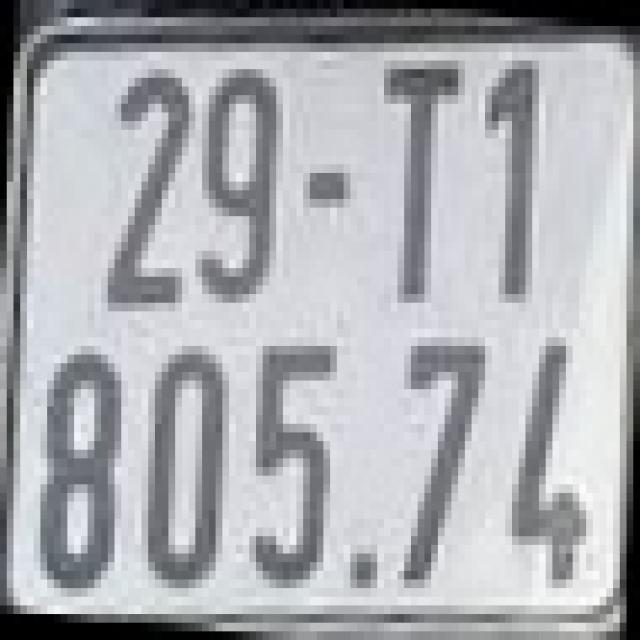0: (142, 346, 230, 588)
1: (478, 52, 546, 303)
2: (108, 69, 188, 303)
4: (505, 337, 593, 588)
5: (249, 338, 337, 580)
7: (398, 328, 486, 580)
8: (34, 346, 122, 588)
9: (195, 60, 283, 302)
T: (377, 60, 465, 302)
